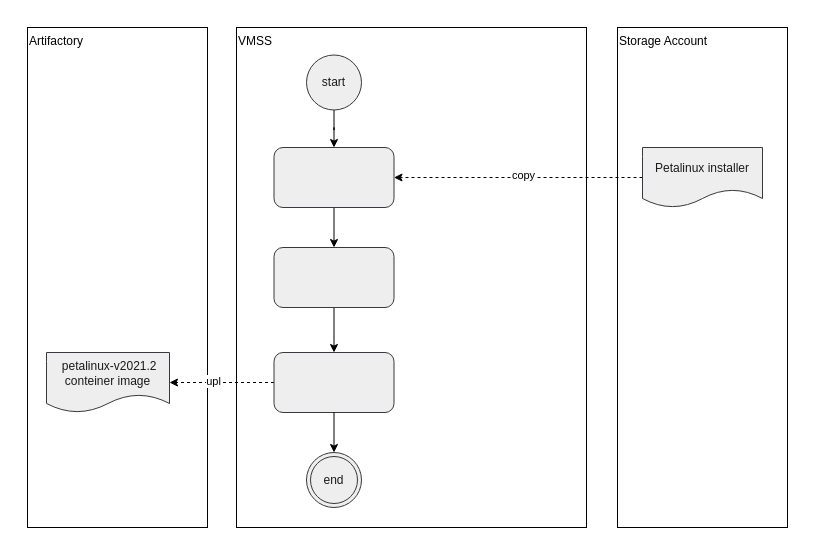
Some shapes in this 814 by 554 pixel diagram are drawn without their labels. Each missing label, with the centre of its shape:
"build Petalinux container image" belongs at (x=333, y=277).
"mount Peta transfer" belongs at (x=333, y=177).
"store Petalinux container image" belongs at (x=333, y=382).
